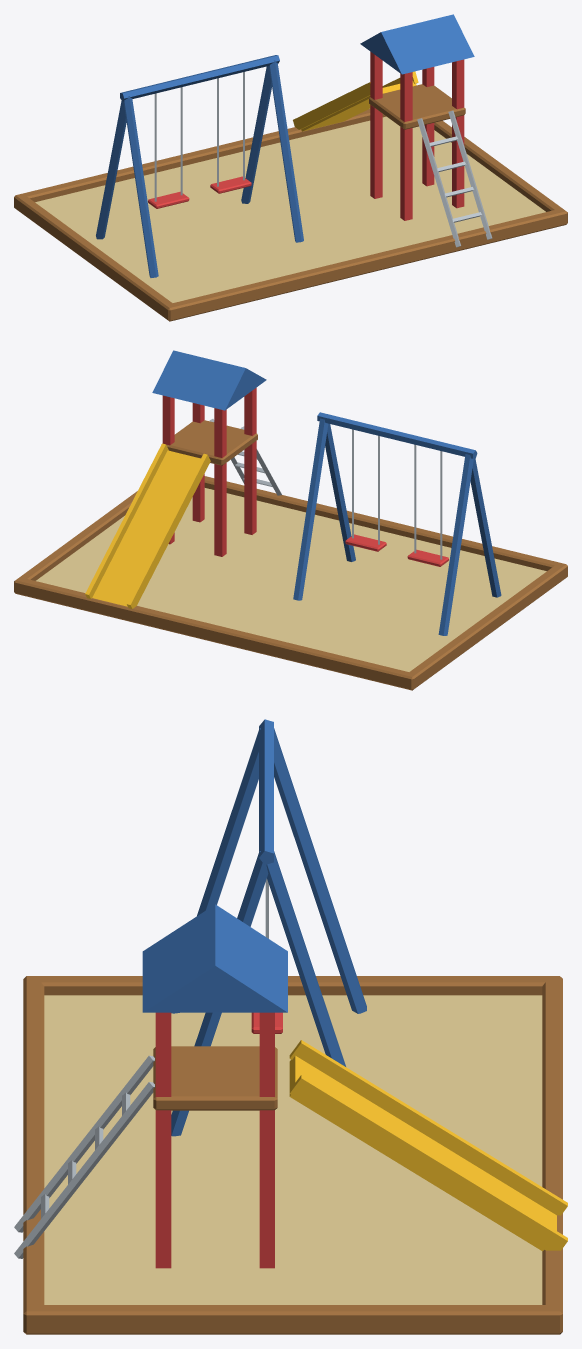
File: kit-cidade-parquinho.glb
The picture shows the model from 3 angles, top to bottom: view 1: azimuth 30°, elevation 25°; view 2: azimuth 150°, elevation 25°; view 3: azimuth 270°, elevation 25°; orthographic projection. The views are drawn at different scales.
Visible parts, largest first — view 1: corpo; view 2: corpo; view 3: corpo.
Boxes of the visible parts, box(x1,y1,x2,y2) form: corpo: box(14, 14, 567, 321); corpo: box(14, 350, 567, 690); corpo: box(14, 719, 567, 1334).
Bounding box in the file's own units: 1.54 × 0.68 × 1.07.
